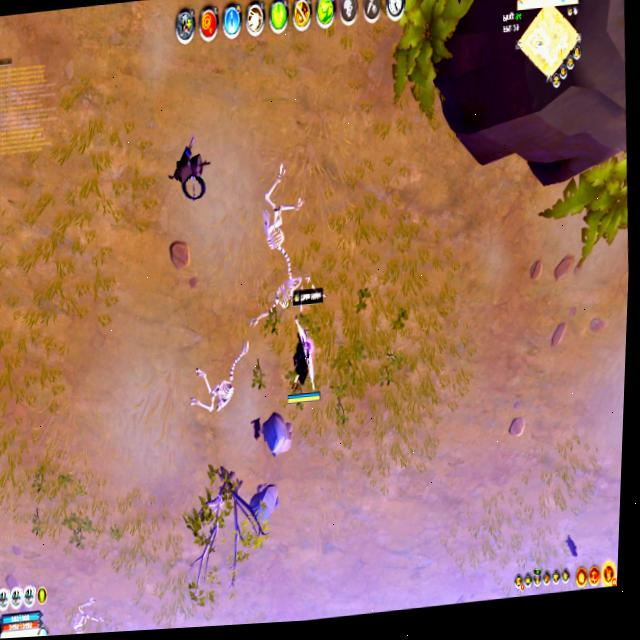red: (282, 326, 323, 412)
